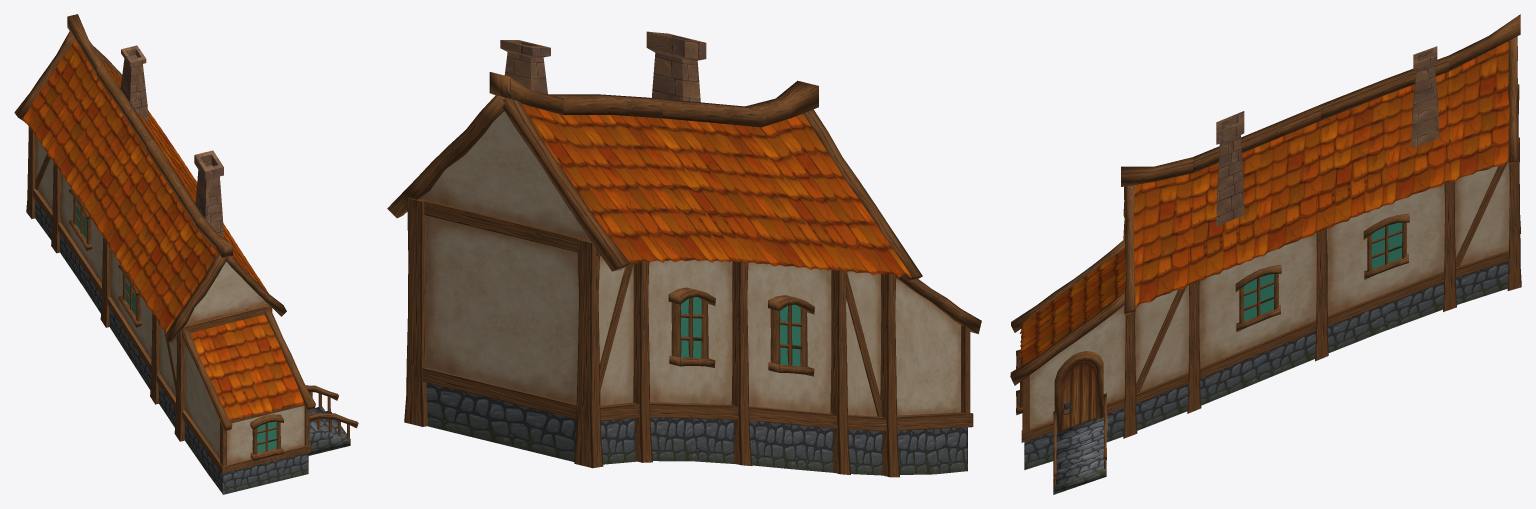
The model's file is house_diagonal.fbx.
The picture shows the model from 3 angles, left to right: view 1: azimuth 30°, elevation 25°; view 2: azimuth 150°, elevation 25°; view 3: azimuth 270°, elevation 25°; orthographic projection. The views are drawn at different scales.
Parts seen in each view (by area): view 1: RH3; view 2: RH3; view 3: RH3.
Boxes of the visible parts, x1,y1,x2,y2 form: RH3: (14, 14, 358, 494); RH3: (387, 31, 981, 477); RH3: (1010, 14, 1521, 494).
Bounding box in the file's own units: 385 × 733 × 798.
